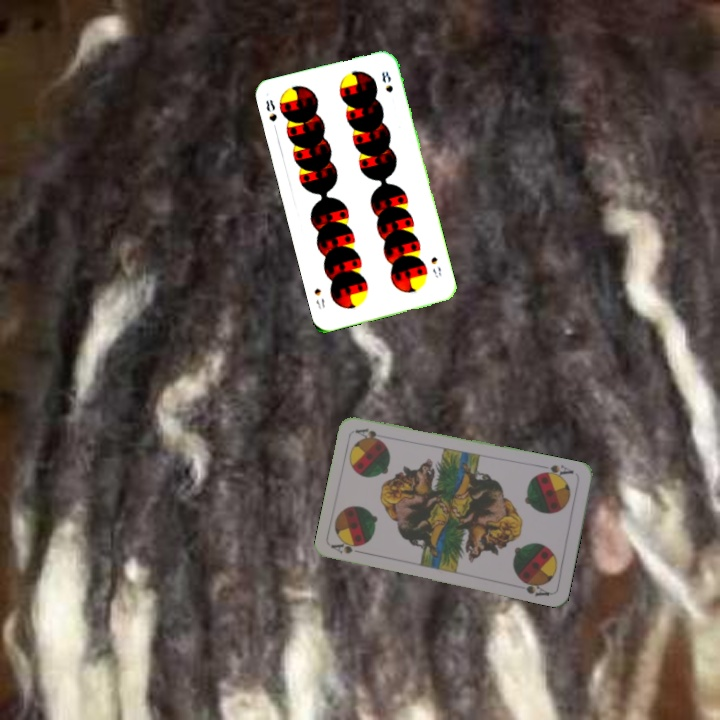S8: (262, 95, 279, 134), (427, 253, 444, 280)
SA: (536, 461, 576, 482), (328, 539, 363, 556)
